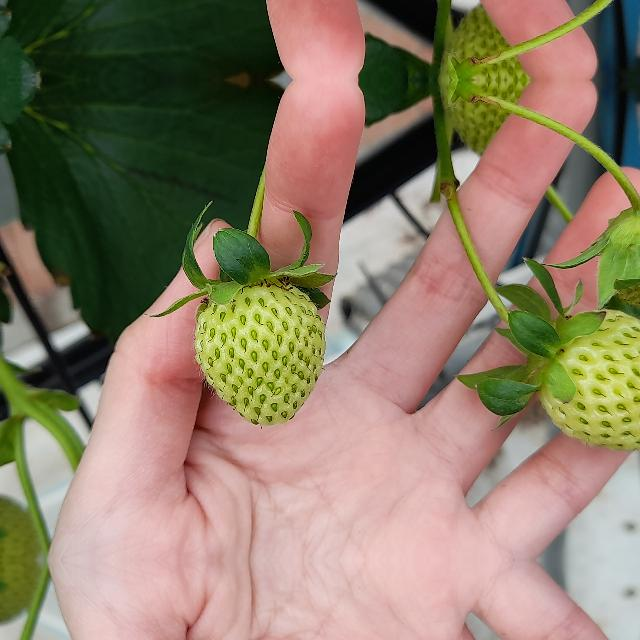Health_25: (194, 278, 326, 426), (534, 306, 640, 454)
